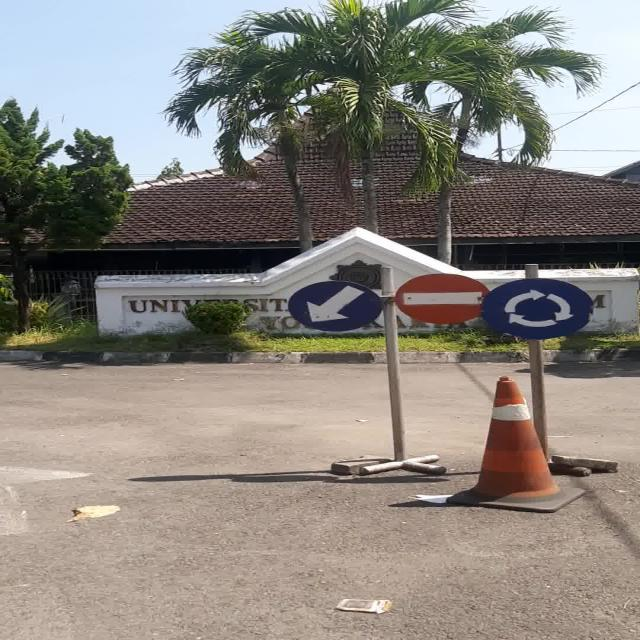Ikuti Bundaran: (482, 277, 594, 340)
Lajur Kiri: (287, 280, 383, 332)
